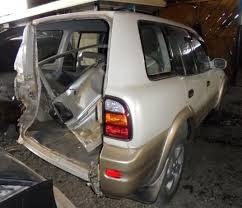Broken-glass: (12, 67, 38, 127)
